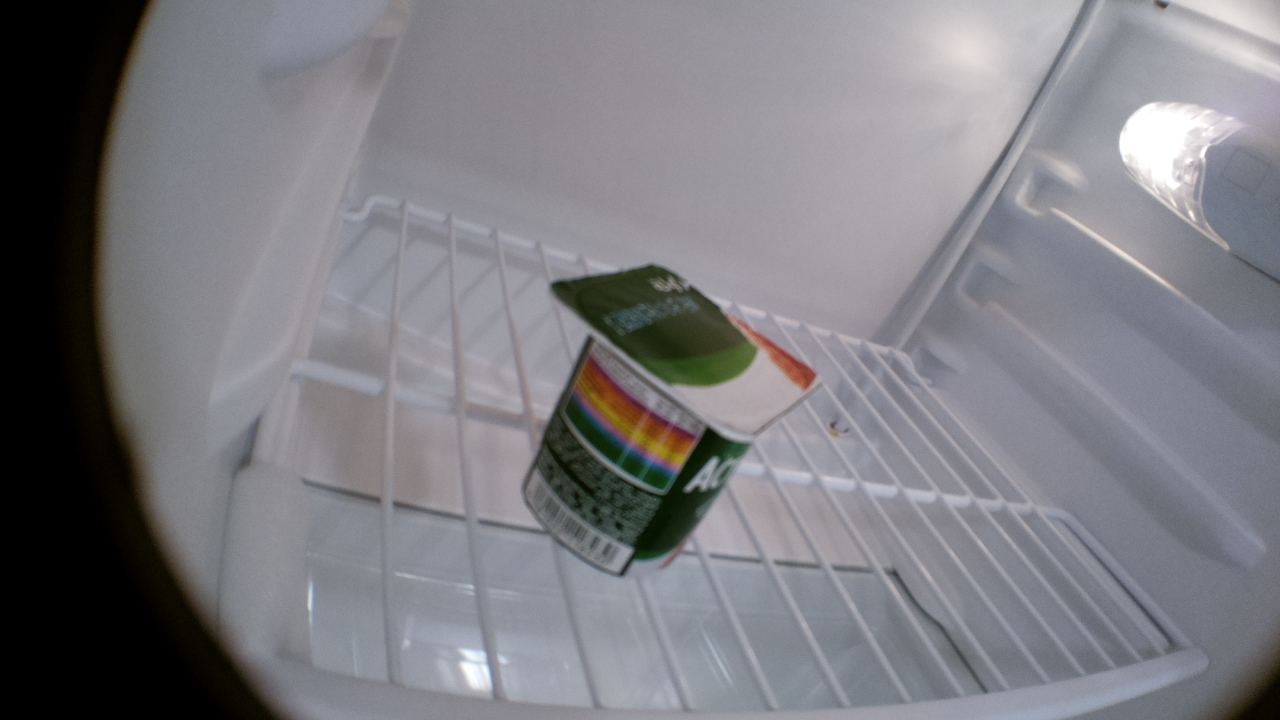yoghurt: (519, 260, 822, 580)
